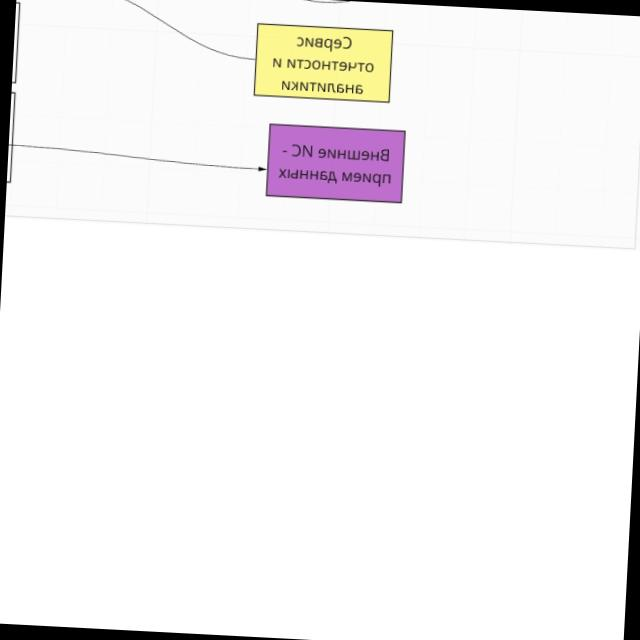arrow: (13, 141, 268, 173)
rectangle: (253, 22, 395, 104), (267, 122, 407, 204)
